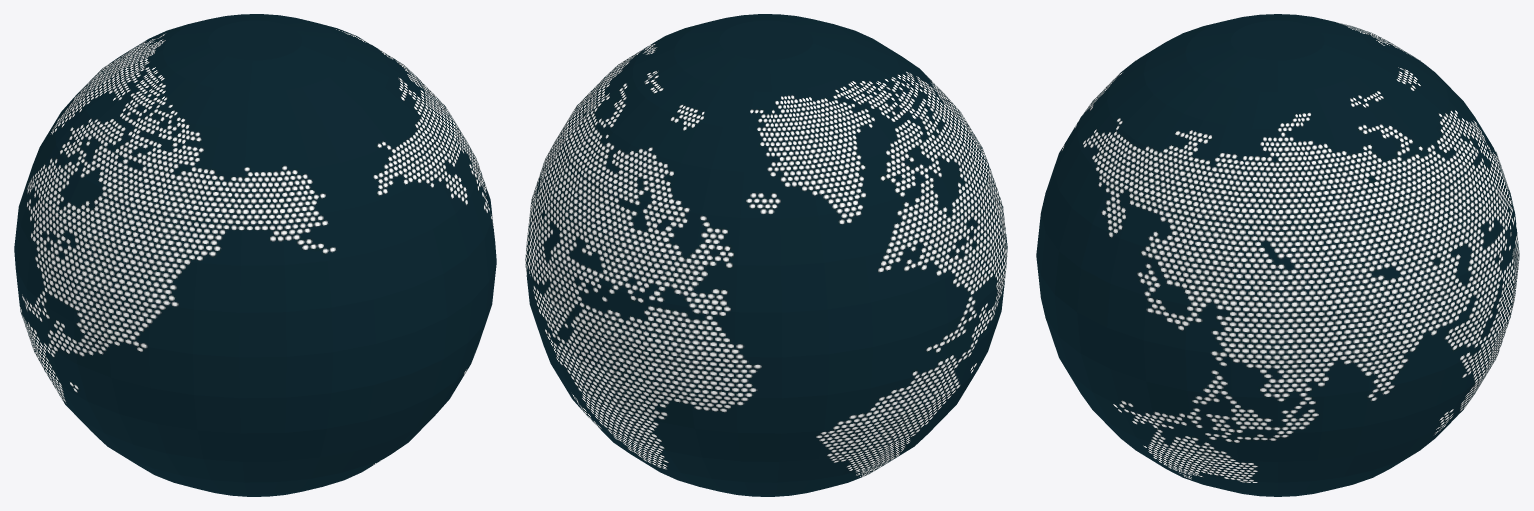
The model's file is earth.gltf.
The picture shows the model from 3 angles, left to right: view 1: azimuth 30°, elevation 25°; view 2: azimuth 150°, elevation 25°; view 3: azimuth 270°, elevation 25°; orthographic projection.
Parts seen in each view (by area): view 1: Sphere; view 2: Sphere; view 3: Sphere.
Part boxes in pixels (box(x1,y1,x2,y2)): Sphere: box(14, 14, 496, 496); Sphere: box(525, 14, 1007, 496); Sphere: box(1036, 14, 1519, 496).
Bounding box in the file's own units: 2 × 1.99 × 2.
Materials: 1 (1 with a texture image).
